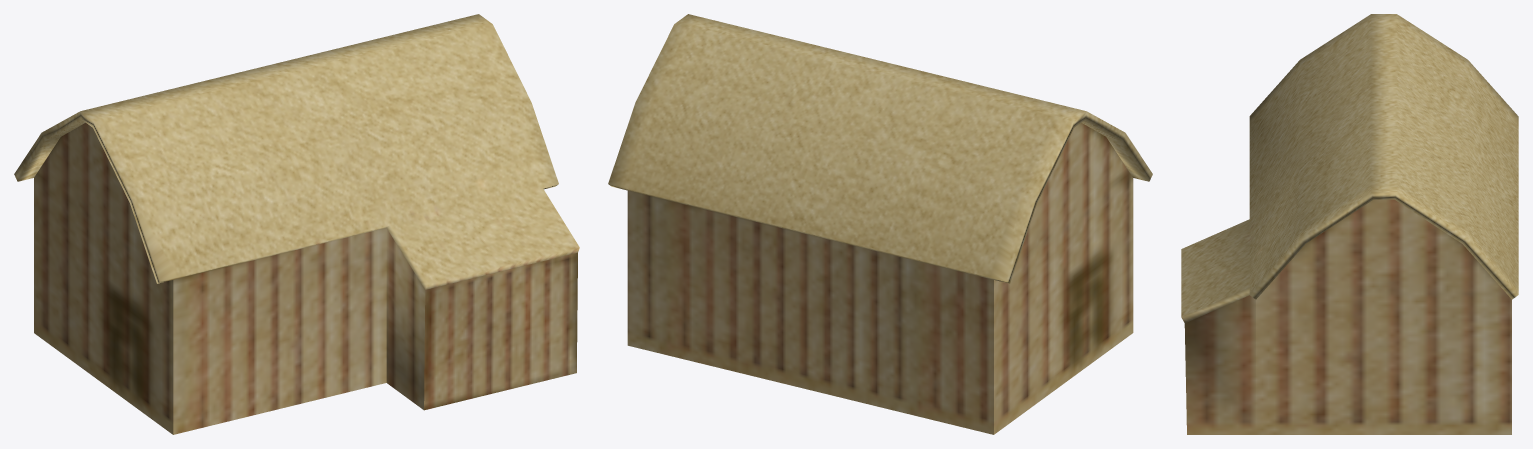
File: Village_HouseMedium.fbx
3 views of the same model, side by side, from view 1: azimuth 30°, elevation 25°; view 2: azimuth 150°, elevation 25°; view 3: azimuth 270°, elevation 25° (orthographic). The views are drawn at different scales.
Visible parts, largest first — view 1: House_Medium; view 2: House_Medium; view 3: House_Medium.
Part boxes in pixels (box(x1,y1,x2,y2)): House_Medium: box(14, 14, 579, 434); House_Medium: box(608, 14, 1152, 434); House_Medium: box(1181, 14, 1518, 434).
Size of the model in its own units: 9.59 by 6.25 by 7.65.
